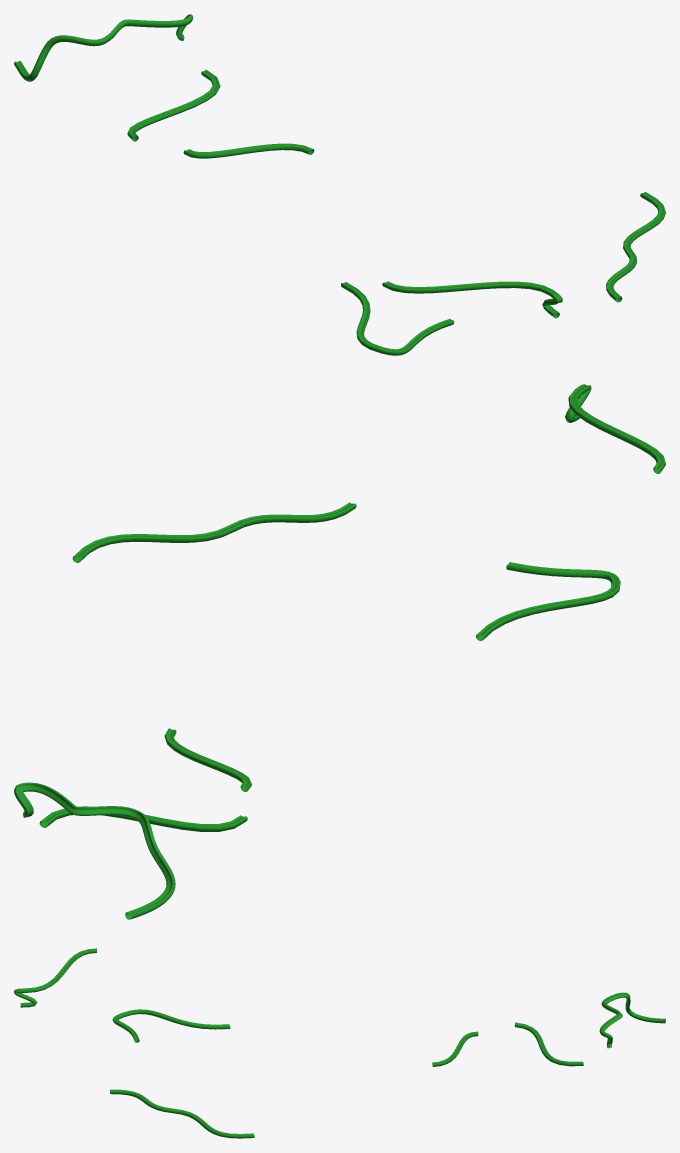
File: Level12Wires.fbx
3 renders of one model, top to bottom at view 1: azimuth 30°, elevation 25°; view 2: azimuth 150°, elevation 25°; view 3: azimuth 270°, elevation 25°, orthographic. The views are drawn at different scales.
Parts seen in each view (by area): view 1: BezierCurve.001, BezierCurve.004, BezierCurve.003, BezierCurve.002, BezierCurve, BezierCurve.005; view 2: BezierCurve.001, BezierCurve.002, BezierCurve.003, BezierCurve.004, BezierCurve, BezierCurve.005; view 3: BezierCurve.002, BezierCurve.003, BezierCurve.001, BezierCurve.004, BezierCurve, BezierCurve.005.
Part boxes in pixels (bbox=[...]): BezierCurve.001: bbox=[14, 14, 193, 81]; BezierCurve.004: bbox=[382, 281, 562, 318]; BezierCurve.003: bbox=[341, 282, 454, 355]; BezierCurve.002: bbox=[606, 192, 665, 302]; BezierCurve: bbox=[127, 69, 220, 141]; BezierCurve.005: bbox=[183, 143, 314, 158]; BezierCurve.001: bbox=[14, 782, 175, 919]; BezierCurve.002: bbox=[72, 502, 356, 562]; BezierCurve.003: bbox=[476, 562, 620, 640]; BezierCurve.004: bbox=[565, 384, 665, 473]; BezierCurve: bbox=[39, 806, 247, 831]; BezierCurve.005: bbox=[164, 728, 251, 791]; BezierCurve.002: bbox=[110, 1089, 254, 1138]; BezierCurve.003: bbox=[112, 1009, 230, 1042]; BezierCurve.001: bbox=[599, 992, 665, 1048]; BezierCurve.004: bbox=[14, 948, 96, 1007]; BezierCurve: bbox=[514, 1022, 583, 1066]; BezierCurve.005: bbox=[432, 1031, 478, 1066].
Bounding box in the file's own units: 492 × 112 × 1043.
